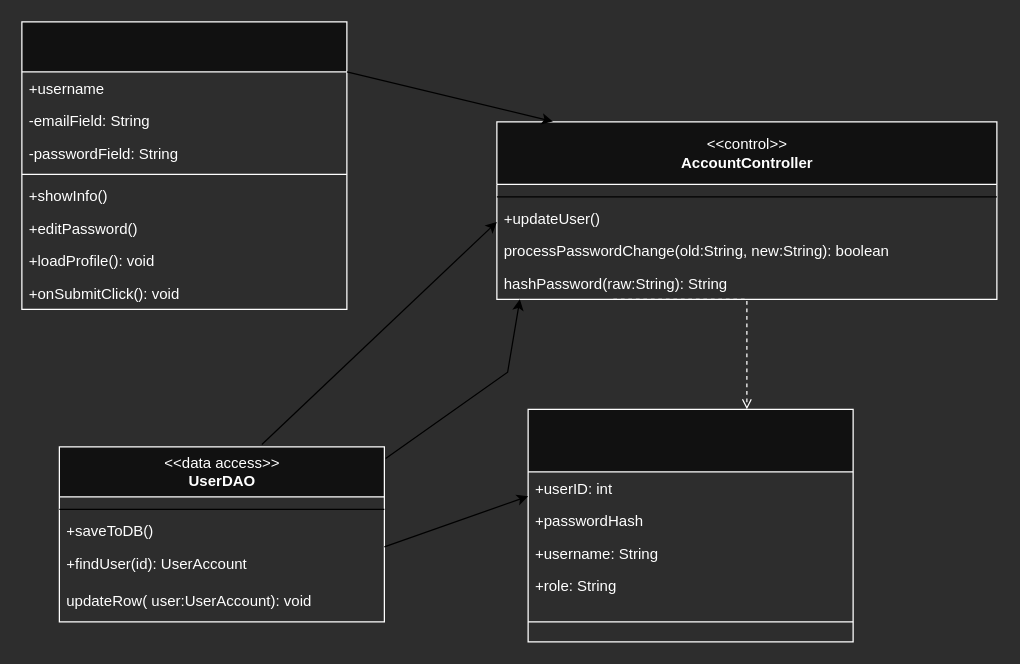
The diagram is 1020 pixels wide and 664 high, and some of its shapes have lost their labels. Here are the shapes that lost their labels. From the top down, the box of each, then its label:
(21, 21, 347, 309): <<boundary>> AccountProfileUI
(527, 408, 853, 642): <<entity>> UserAccount
